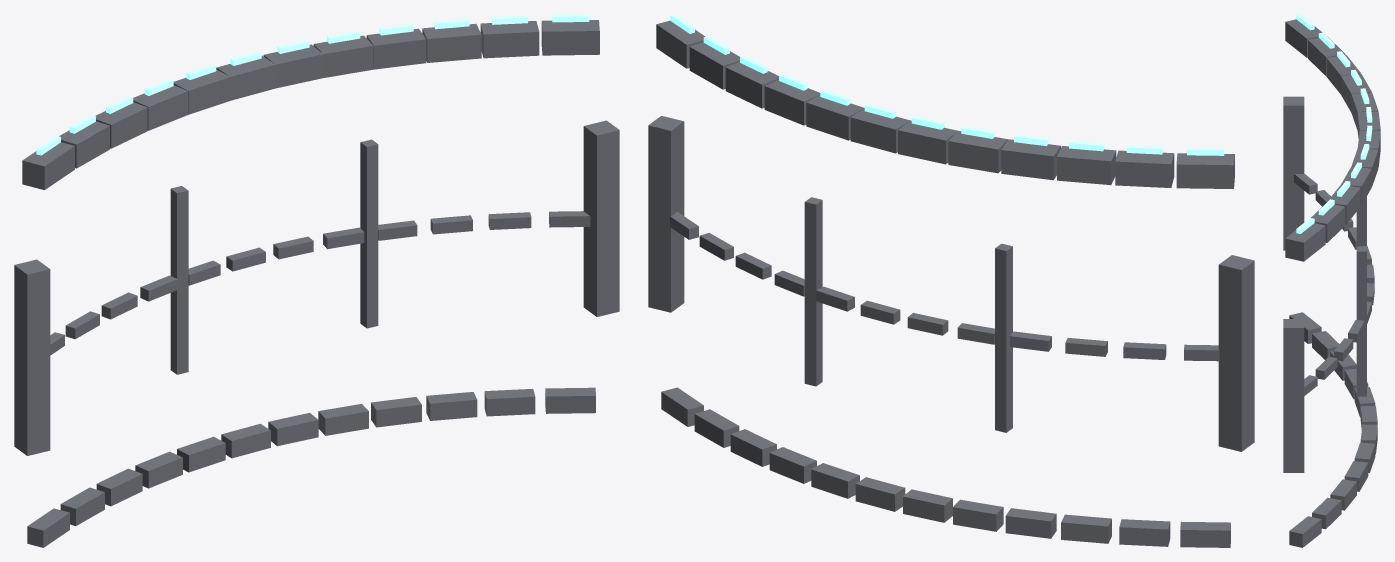
Rendered from cockpit_canopy.glb.
3 renders of one model, left to right at view 1: azimuth 30°, elevation 25°; view 2: azimuth 150°, elevation 25°; view 3: azimuth 270°, elevation 25°, orthographic. The views are drawn at different scales.
Parts seen in each view (by area): view 1: CockpitCanopy; view 2: CockpitCanopy; view 3: CockpitCanopy.
Part boxes in pixels (box(x1,y1,x2,y2)): CockpitCanopy: box(14, 14, 619, 547); CockpitCanopy: box(648, 14, 1254, 547); CockpitCanopy: box(1283, 14, 1380, 547).
Size of the model in its own units: 5.72 by 3.64 by 1.02.
